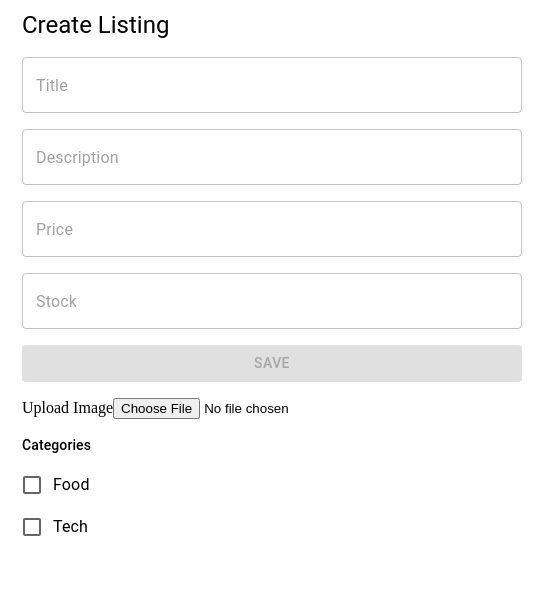
Test: Create Listing Form › shows success message after submit
This screenshot has width=545, height=593.
Type "Widget" into the field with placeholder "Title" at (272, 85), box [22,57,522,113]
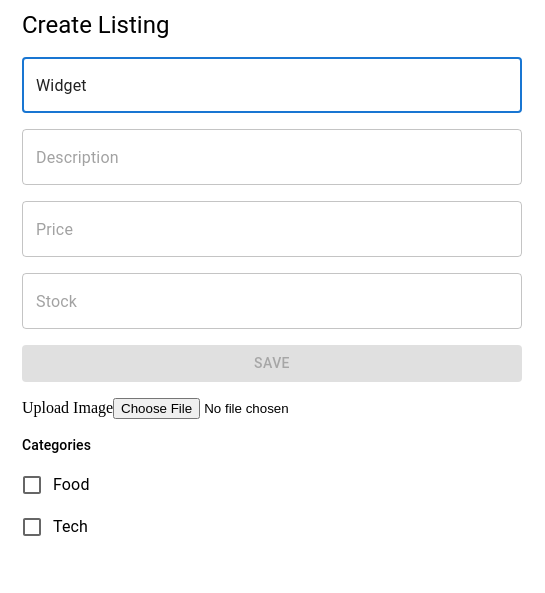
Type "A widget" into the field with placeholder "Description" at (272, 157), box [22,129,522,185]
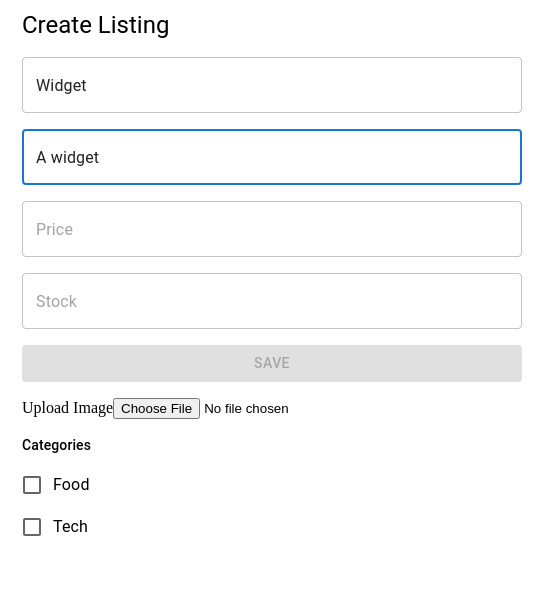
Type "9.99" into the number field with placeholder "Price" at (272, 229), box [22,201,522,257]
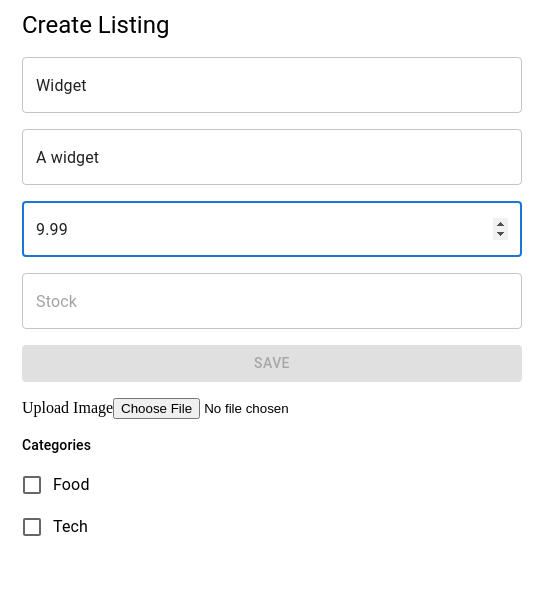
Type "5" into the number field with placeholder "Stock" at (272, 301), box [22,273,522,329]
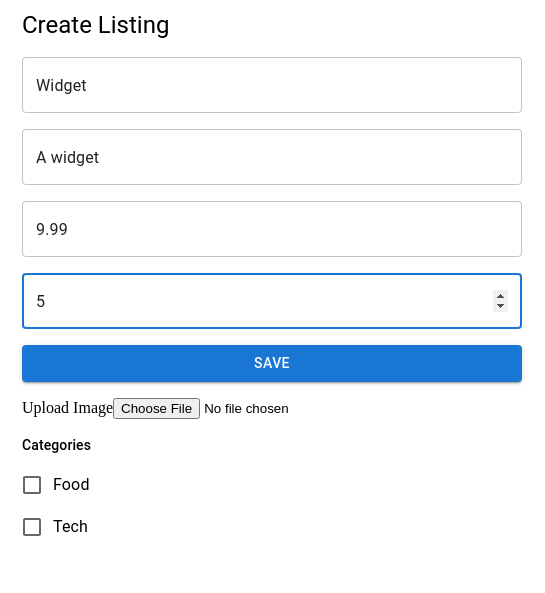
Click the button "Save" at (272, 363), box [22,345,522,382]
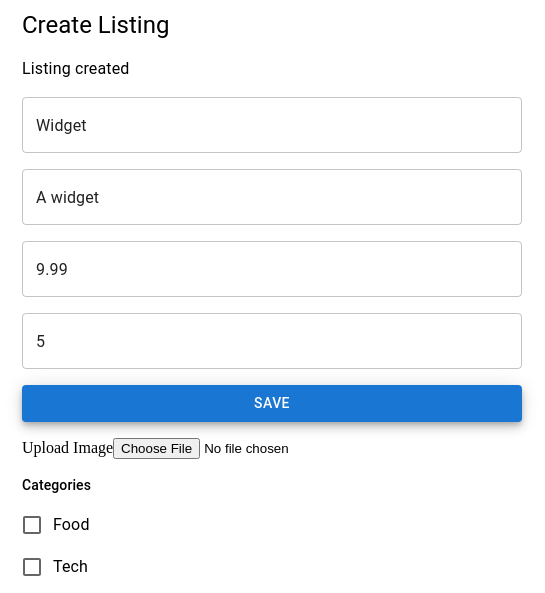
Check: the text "Listing created" is shown, box [22,59,130,78]
